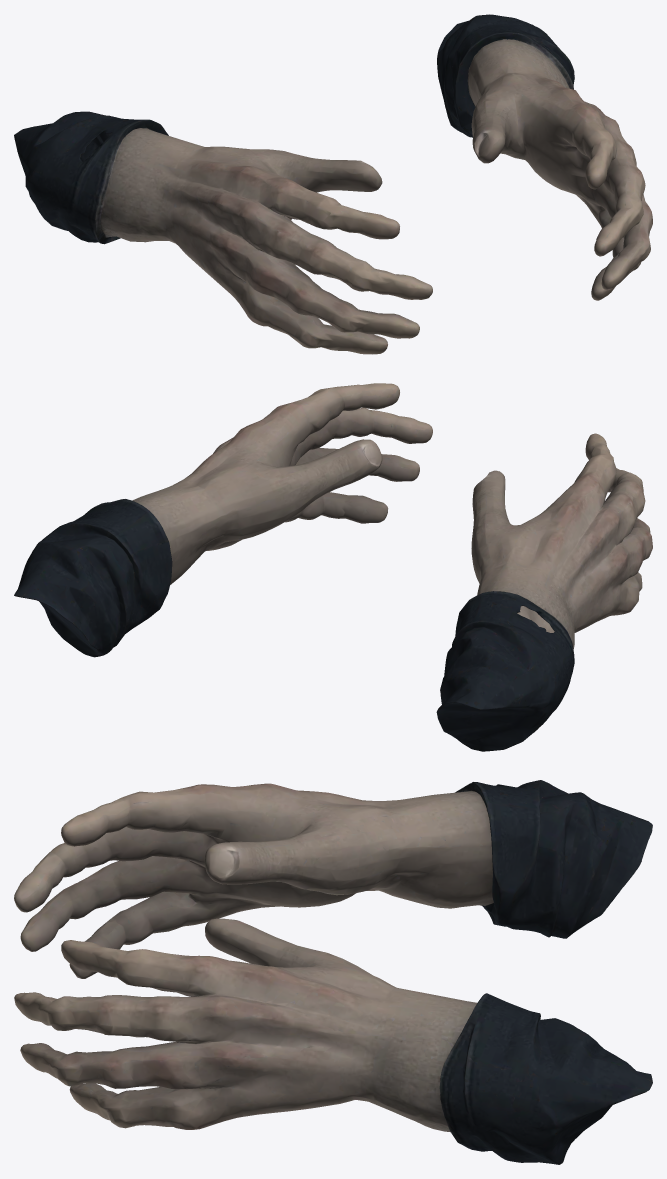
Rendered from hands.glb.
The picture shows the model from 3 angles, top to bottom: view 1: azimuth 30°, elevation 25°; view 2: azimuth 150°, elevation 25°; view 3: azimuth 270°, elevation 25°; orthographic projection. The views are drawn at different scales.
Parts seen in each view (by area): view 1: hands; view 2: hands; view 3: hands.
Part boxes in pixels (x1,y1,x2,y2): hands: [14, 14, 652, 354]; hands: [14, 383, 652, 751]; hands: [14, 780, 652, 1164].
Bounding box in the file's own units: 1 × 0.2724 × 0.8922.
1 material, 1 textured.
